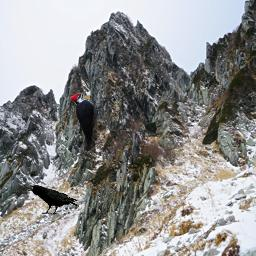Crow: (28, 185, 79, 215)
Woodpecker: (69, 90, 103, 151)
